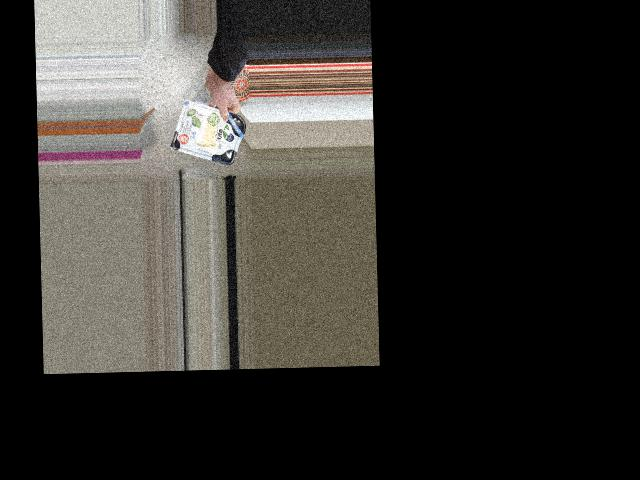cheese: (178, 108, 240, 157)
